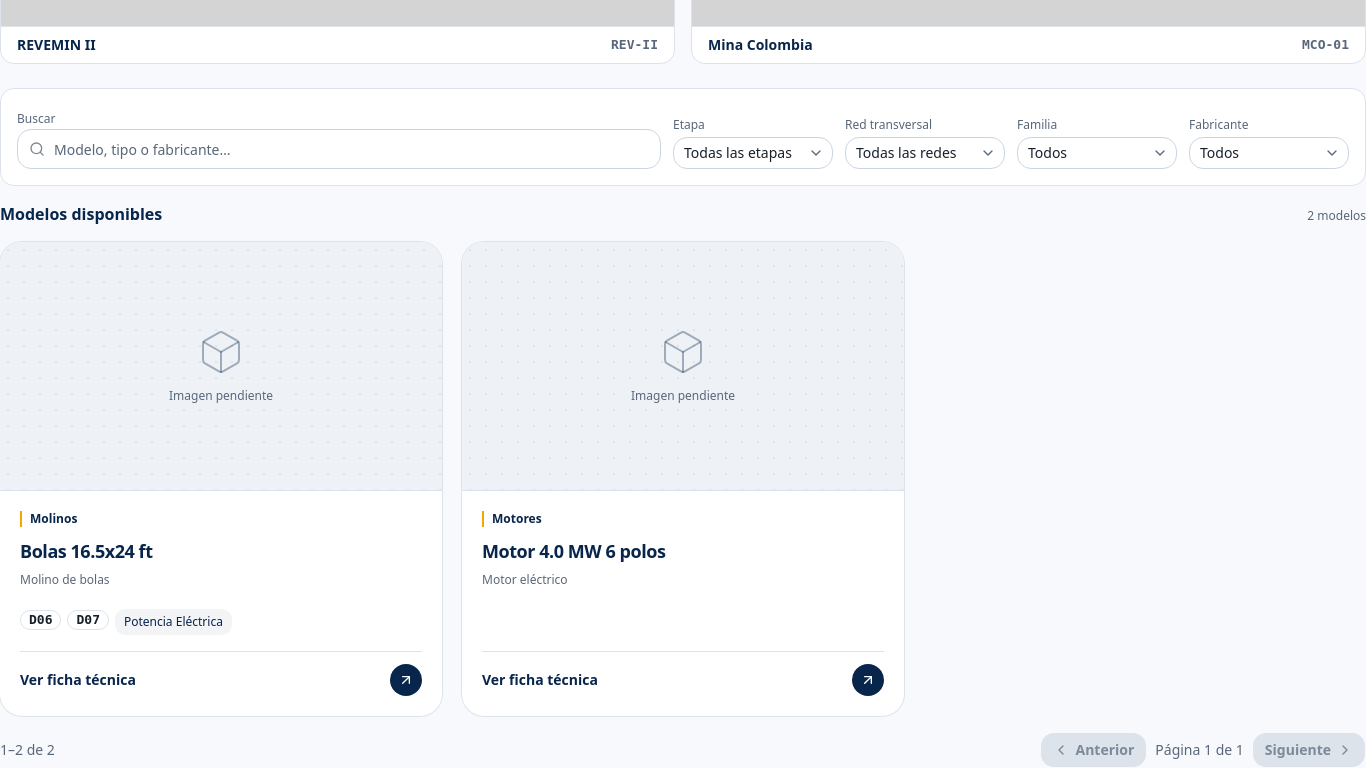
Catálogo global › ficha técnica del modelo › muestra las especificaciones en la segunda sección y oculta componentes si no están definidos
The image size is (1366, 768).
(page scrolled)
Click the button with aria-label "Ver la ficha técnica de Bolas 16.5x24 ft": (221, 479) [0,242,442,716]
(page scrolled)
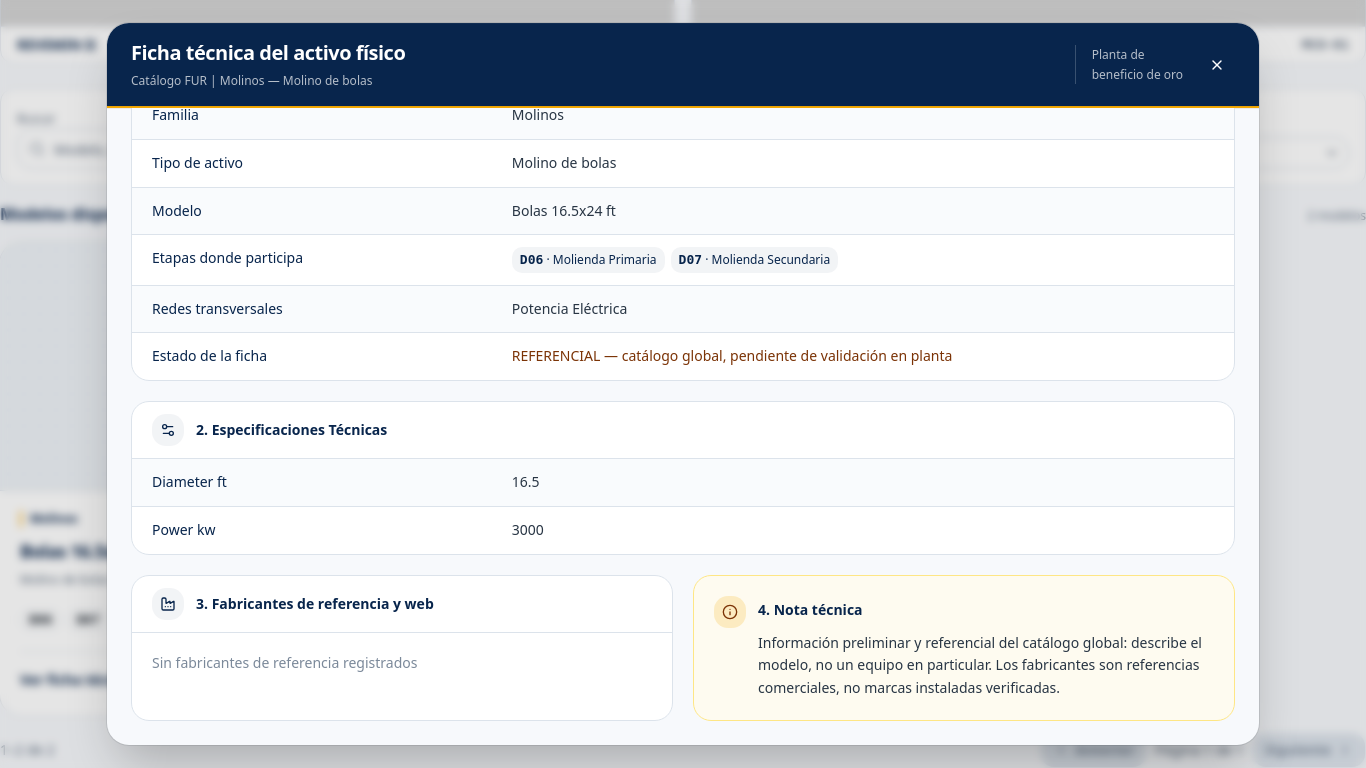
Expected: the heading "Ficha técnica del activo físico" is shown, [131,39,405,66]
Expected: the text "Catálogo FUR | Molinos — Molino de bolas" is shown, [131,72,372,88]
Expected: the text "D06" is shown, [520,252,543,267]
